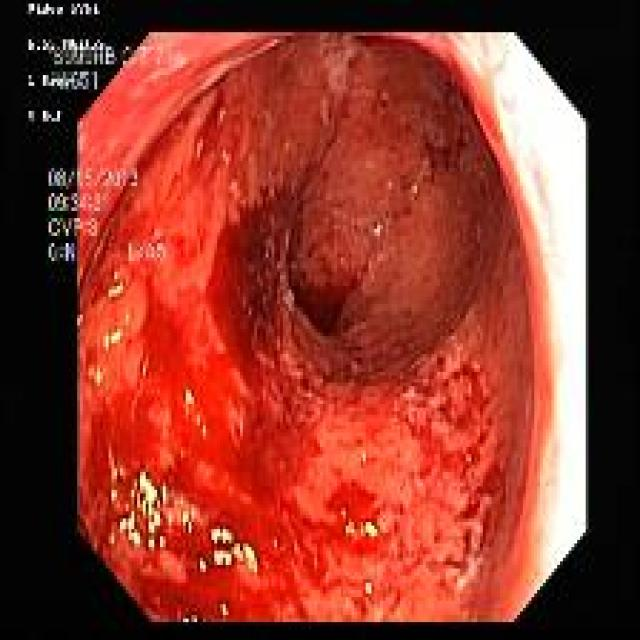ulcerative-colitis: (80, 34, 532, 622)
